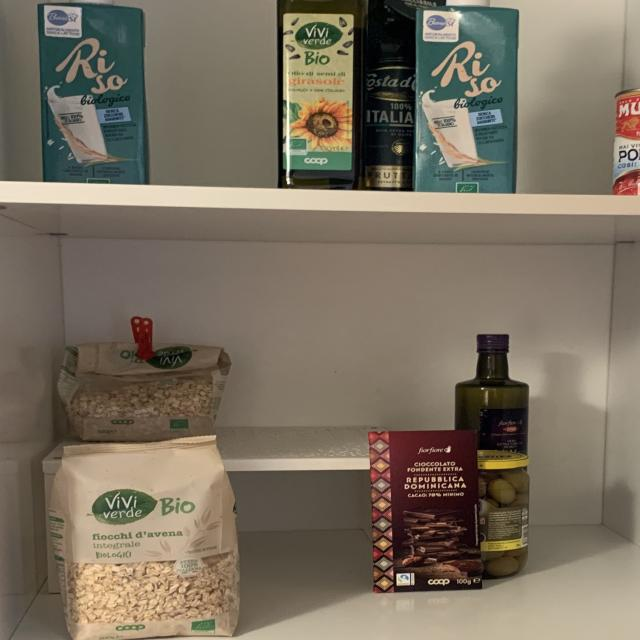chocolate: (372, 429, 489, 591)
milk: (37, 3, 149, 182), (419, 0, 519, 194)
oats: (46, 433, 238, 640), (57, 340, 225, 440)
oil: (277, 0, 356, 191), (365, 0, 437, 190), (456, 332, 528, 444)
olives: (485, 468, 529, 576)
tomato_sauce: (616, 87, 640, 196)
